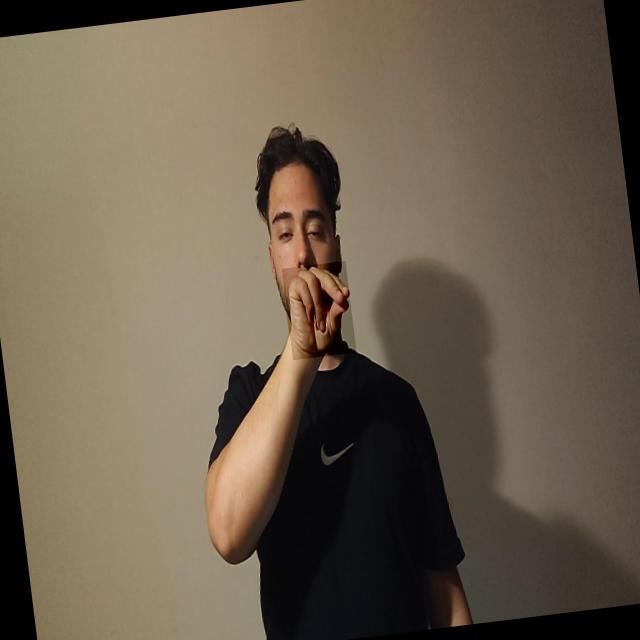no: (282, 260, 357, 360)
